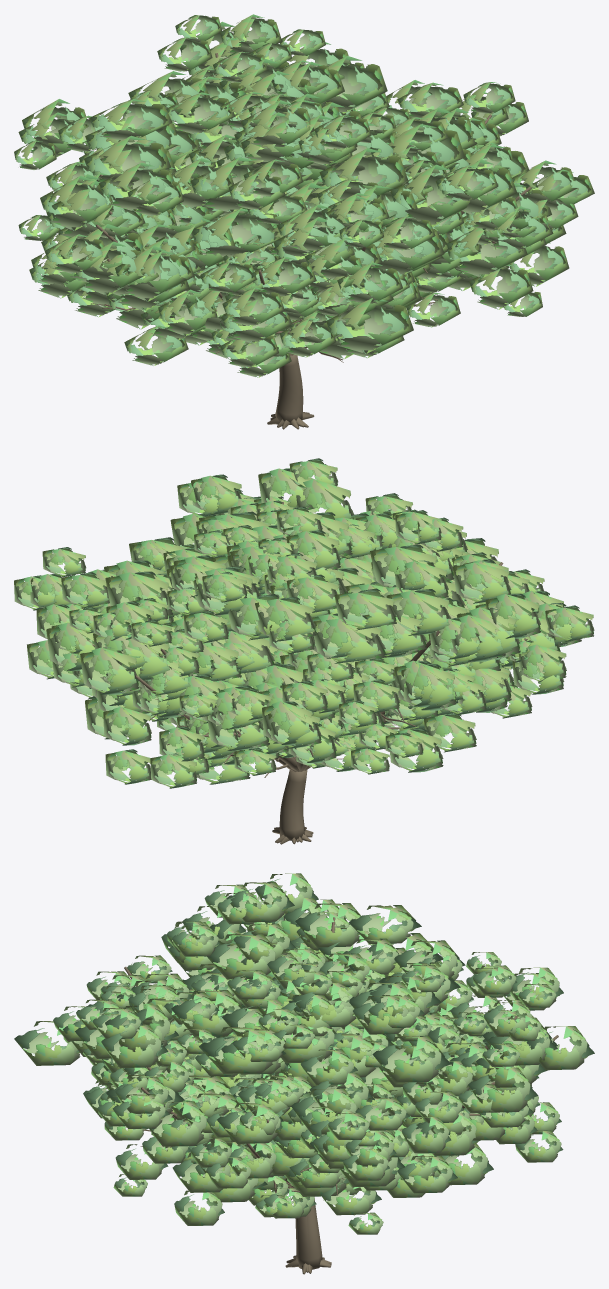
The model's file is oak.glb.
3 renders of one model, top to bottom at view 1: azimuth 30°, elevation 25°; view 2: azimuth 150°, elevation 25°; view 3: azimuth 270°, elevation 25°, orthographic. The views are drawn at different scales.
Parts seen in each view (by area): view 1: OakTree_5, OakTree_4, OakTree_1, OakTree_2, OakTree_3; view 2: OakTree_1, OakTree_3, OakTree_5, OakTree_4, OakTree_2; view 3: OakTree_1, OakTree_5, OakTree_4, OakTree_3, OakTree_2.
Part boxes in pixels (x1,y1,x2,y2): OakTree_5: (18, 51, 578, 427); OakTree_4: (22, 14, 569, 429); OakTree_1: (52, 29, 594, 424); OakTree_2: (14, 77, 509, 427); OakTree_3: (44, 17, 566, 429); OakTree_1: (46, 474, 551, 844); OakTree_3: (80, 458, 539, 843); OakTree_5: (14, 489, 581, 842); OakTree_4: (45, 493, 563, 844); OakTree_2: (27, 506, 594, 842); OakTree_1: (53, 903, 563, 1273); OakTree_5: (89, 873, 559, 1269); OakTree_4: (75, 881, 563, 1272); OakTree_3: (92, 935, 594, 1268); OakTree_2: (14, 884, 540, 1274).
Size of the model in its own units: 8.88 by 5.08 by 8.61.
2 materials, 1 textured.
